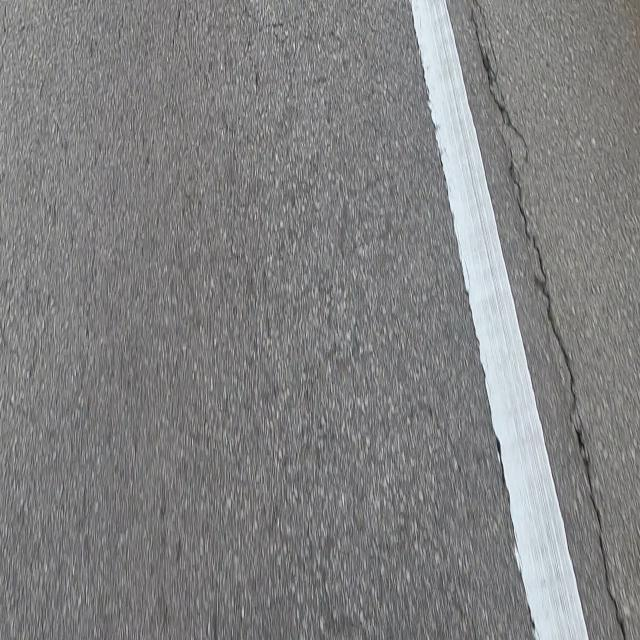Retak-Memanjang: (466, 0, 630, 640)
